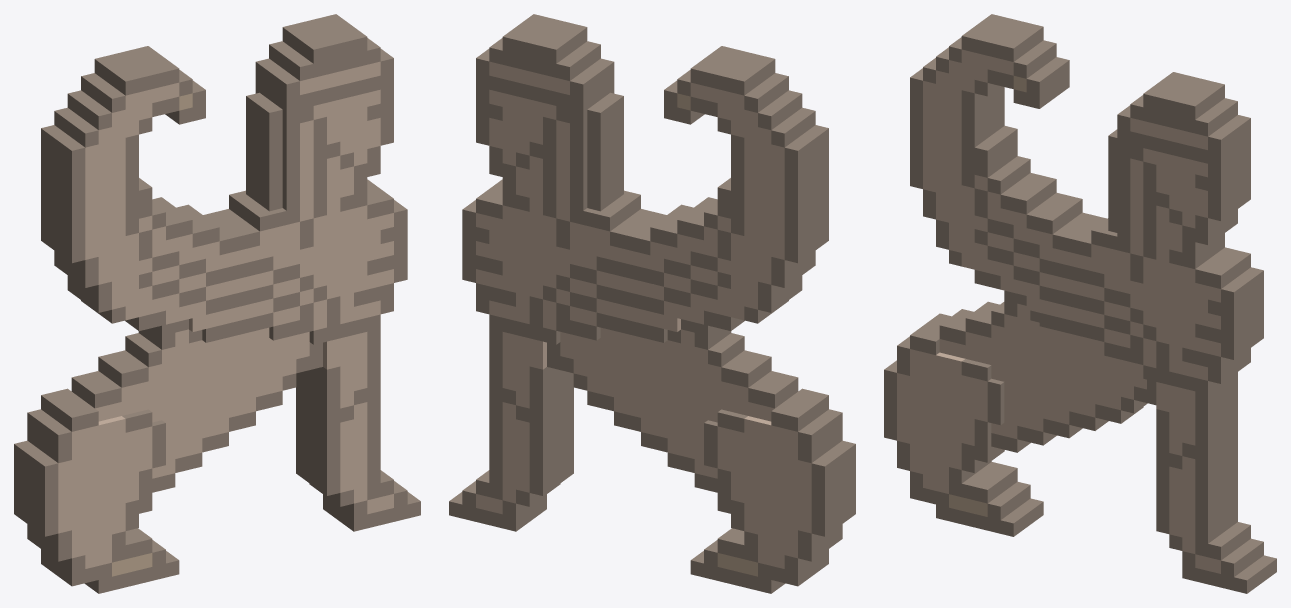
Rendered from SphinxOfNaxos.fbx.
The picture shows the model from 3 angles, left to right: view 1: azimuth 30°, elevation 25°; view 2: azimuth 150°, elevation 25°; view 3: azimuth 330°, elevation 25°; orthographic projection. The views are drawn at different scales.
Visible parts, largest first — view 1: generated; view 2: generated; view 3: generated.
Boxes of the visible parts, x1,y1,x2,y2 form: generated: (14,14,420,593); generated: (449,14,855,593); generated: (884,14,1276,593).
Bounding box in the file's own units: 28 × 36 × 4.
